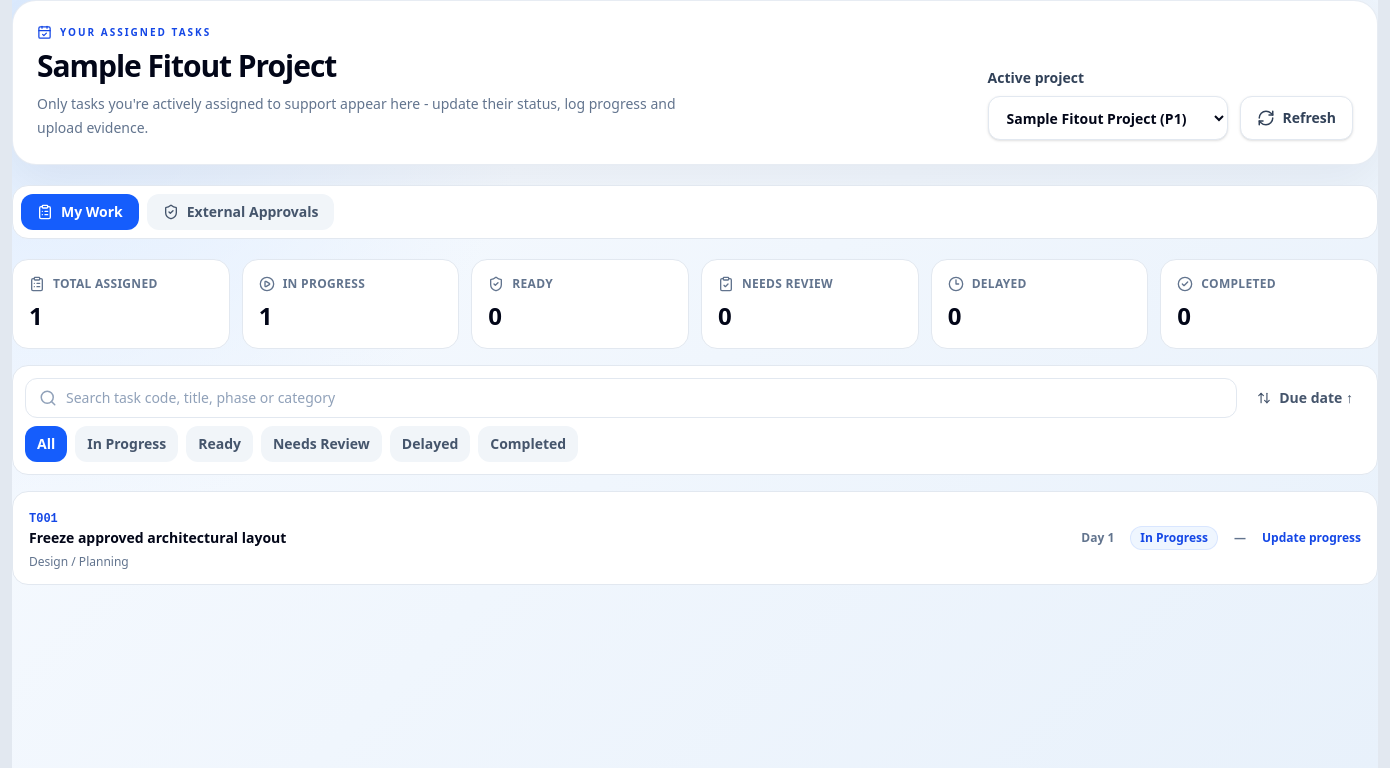
it: ExecutionPage - Internal Employee scoping › opens the Task Detail Action View from a row and can go back
What coordinates should you click on to do the following:
click the text "Freeze approved architectural layout"
I would click on:
 (158, 538)
Its box is [29,528,286,547].
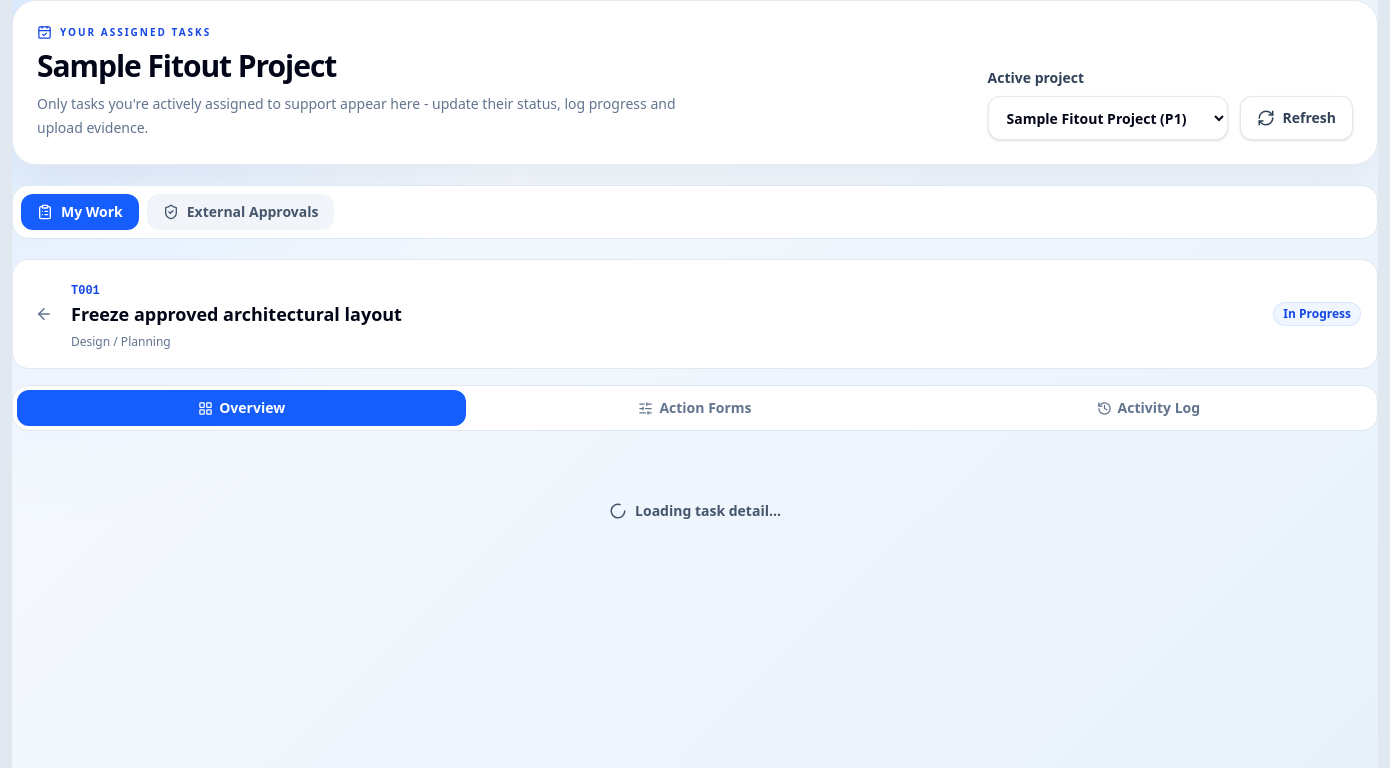
Expected: the heading "Freeze approved architectural layout" is shown, [71,302,402,326]
Expected: the button named "back to my assigned work" is shown
What coordinates should you click on to do the following:
click the button named "back to my assigned work"
I would click on:
 (44, 314)
Its box is [29,299,59,329].
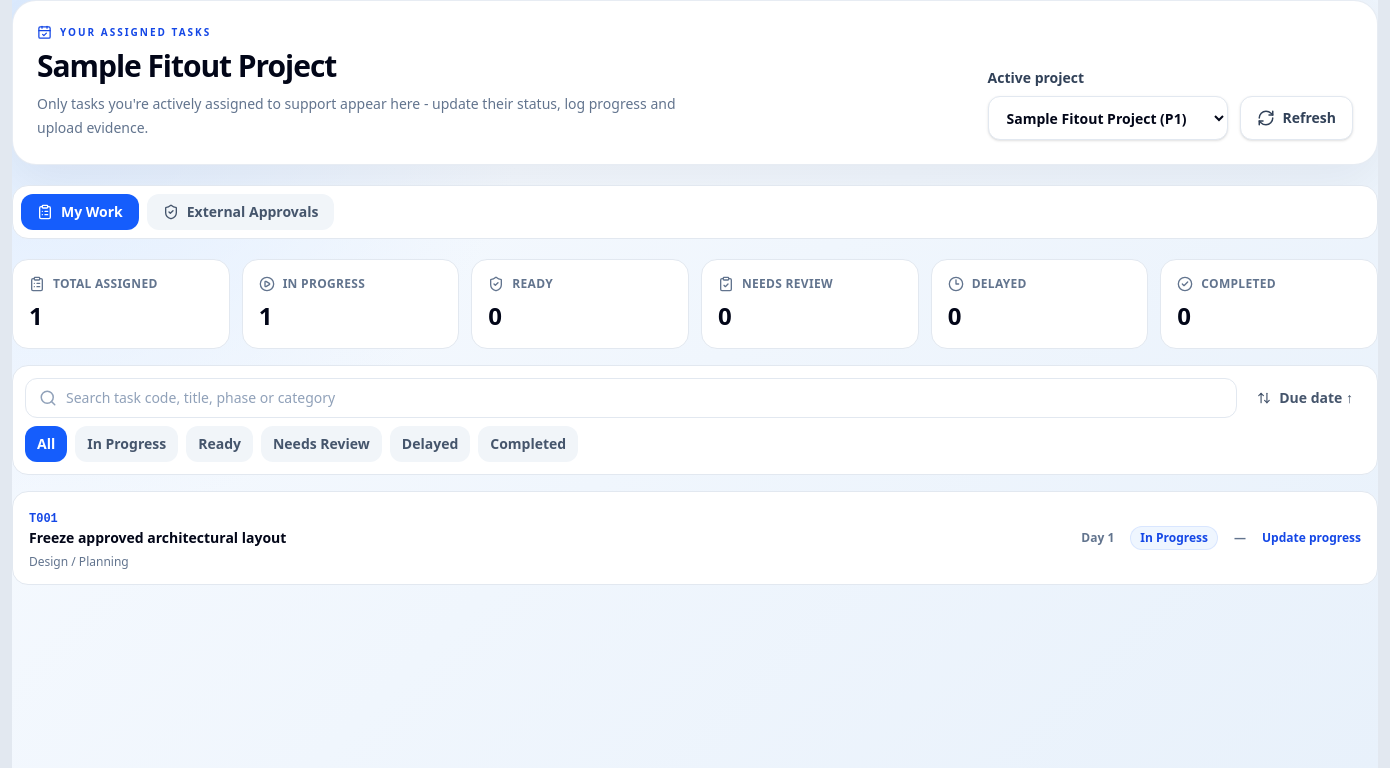
Expected: the element named "my work summary" is shown, [12,259,1378,349]
